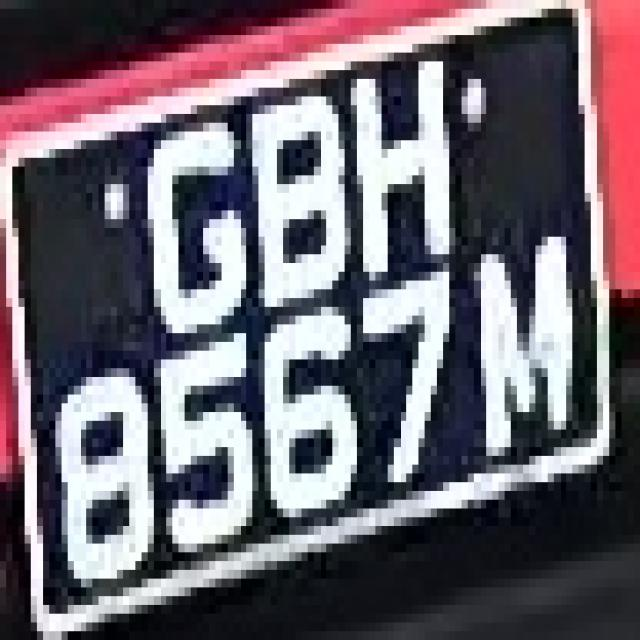5: (148, 316, 264, 561)
6: (252, 298, 363, 526)
7: (344, 254, 468, 473)
8: (43, 351, 160, 605)
B: (228, 62, 357, 324)
G: (130, 97, 258, 333)
H: (344, 53, 468, 263)
M: (468, 210, 590, 464)
